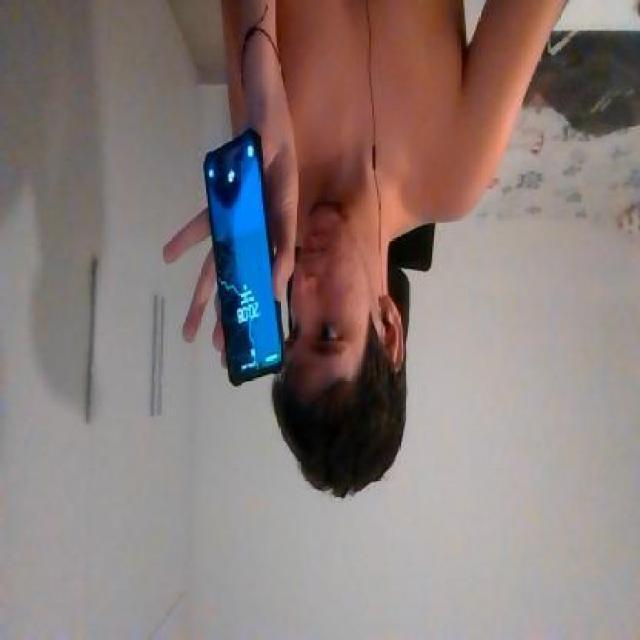phone: (203, 125, 286, 388)
